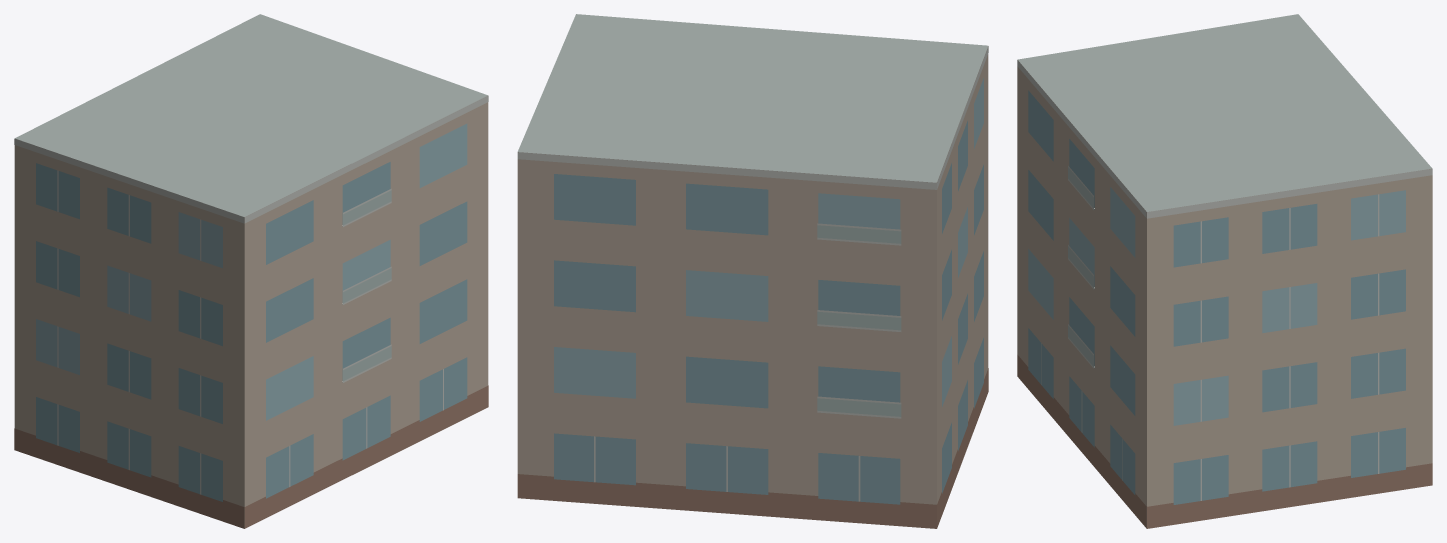
Rendered from survey-upis-32844659.glb.
3 views of the same model, side by side, from view 1: azimuth 30°, elevation 25°; view 2: azimuth 150°, elevation 25°; view 3: azimuth 270°, elevation 25° (orthographic). The views are drawn at different scales.
Visible parts, largest first — view 1: survey-upis-32844659.tmp; view 2: survey-upis-32844659.tmp; view 3: survey-upis-32844659.tmp.
Part boxes in pixels (x1,y1,x2,y2): survey-upis-32844659.tmp: (14, 14, 488, 528); survey-upis-32844659.tmp: (517, 14, 988, 528); survey-upis-32844659.tmp: (1017, 14, 1432, 528).
Bounding box in the file's own units: 15.76 × 11.74 × 13.96.
